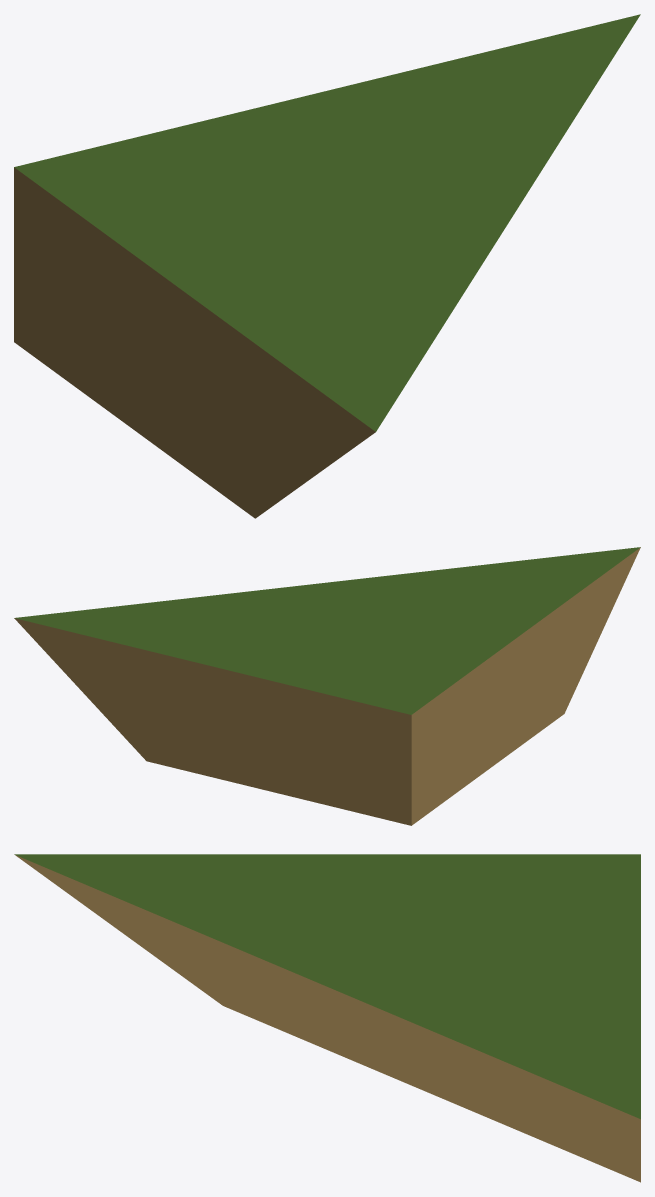
Rendered from Terrain_Modular_Tiles_Grass_Dirt_Cliff_Edge_Corner_Outer_01.fbx.
3 renders of one model, top to bottom at view 1: azimuth 30°, elevation 25°; view 2: azimuth 150°, elevation 25°; view 3: azimuth 270°, elevation 25°, orthographic. The views are drawn at different scales.
Parts seen in each view (by area): view 1: Terrain_Modular_Tiles_Grass_Dirt_Cliff_Edge_Corner_Outer_01; view 2: Terrain_Modular_Tiles_Grass_Dirt_Cliff_Edge_Corner_Outer_01; view 3: Terrain_Modular_Tiles_Grass_Dirt_Cliff_Edge_Corner_Outer_01.
Part boxes in pixels (x1,y1,x2,y2): Terrain_Modular_Tiles_Grass_Dirt_Cliff_Edge_Corner_Outer_01: (14, 14, 640, 518); Terrain_Modular_Tiles_Grass_Dirt_Cliff_Edge_Corner_Outer_01: (14, 547, 640, 825); Terrain_Modular_Tiles_Grass_Dirt_Cliff_Edge_Corner_Outer_01: (14, 854, 640, 1182).
Size of the model in its own units: 44.29 by 11.81 by 44.29.
